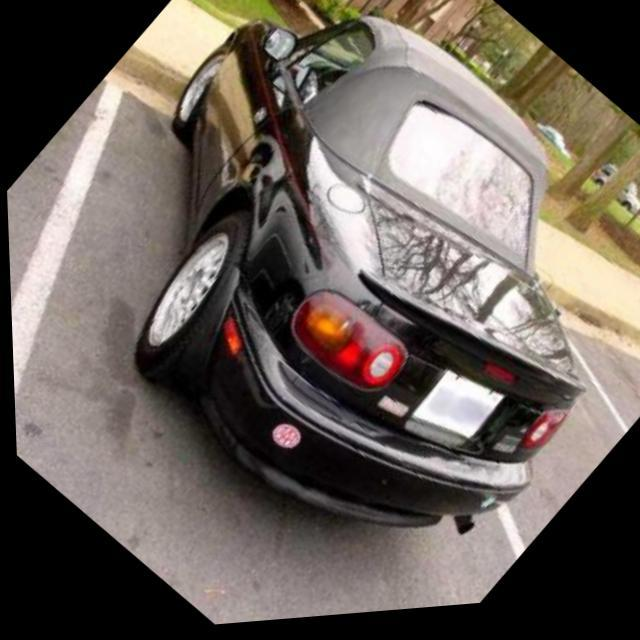license_plate: (404, 360, 506, 466)
